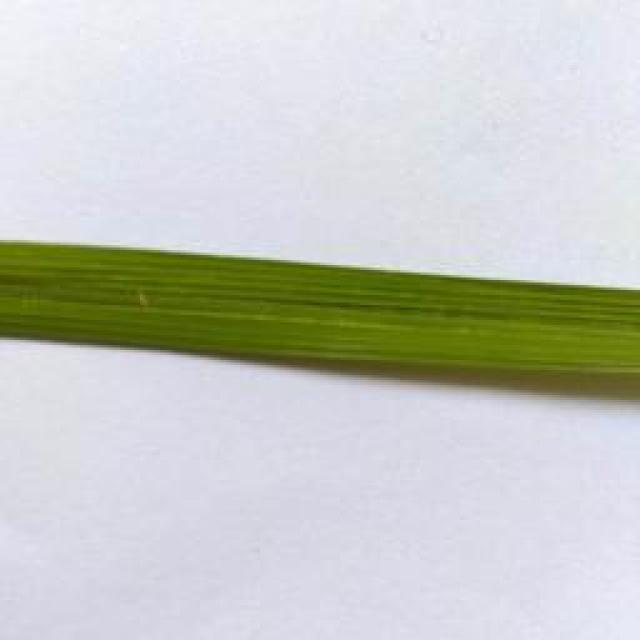Healthy-Plant: (0, 231, 640, 400)
